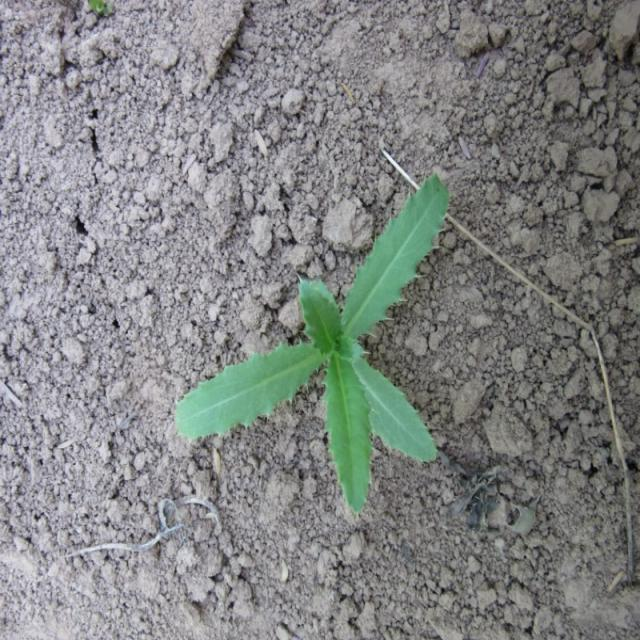field_thistle: (176, 151, 490, 544)
